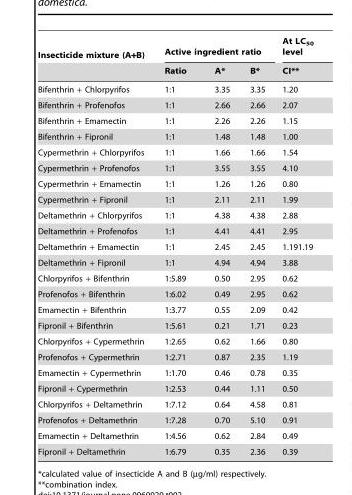table: (36, 36, 312, 456)
table column: (36, 36, 153, 456), (153, 36, 199, 456), (199, 36, 239, 456), (273, 36, 312, 456), (239, 36, 273, 456)
table column header: (36, 36, 312, 78)
table row: (36, 36, 312, 62), (36, 78, 312, 96), (36, 62, 312, 78), (36, 111, 312, 127), (36, 127, 312, 143), (36, 143, 312, 159), (36, 174, 312, 190), (36, 190, 312, 206), (36, 206, 312, 222), (36, 237, 312, 253), (36, 253, 312, 269), (36, 269, 312, 285), (36, 300, 312, 316), (36, 316, 312, 332), (36, 332, 312, 348), (36, 363, 312, 379), (36, 379, 312, 395), (36, 395, 312, 411), (36, 426, 312, 442), (36, 96, 312, 111), (36, 159, 312, 174), (36, 222, 312, 237), (36, 285, 312, 300), (36, 348, 312, 363), (36, 411, 312, 426), (36, 442, 312, 456)
table spanning cell: (36, 36, 153, 78), (153, 36, 273, 62), (273, 36, 312, 78)
